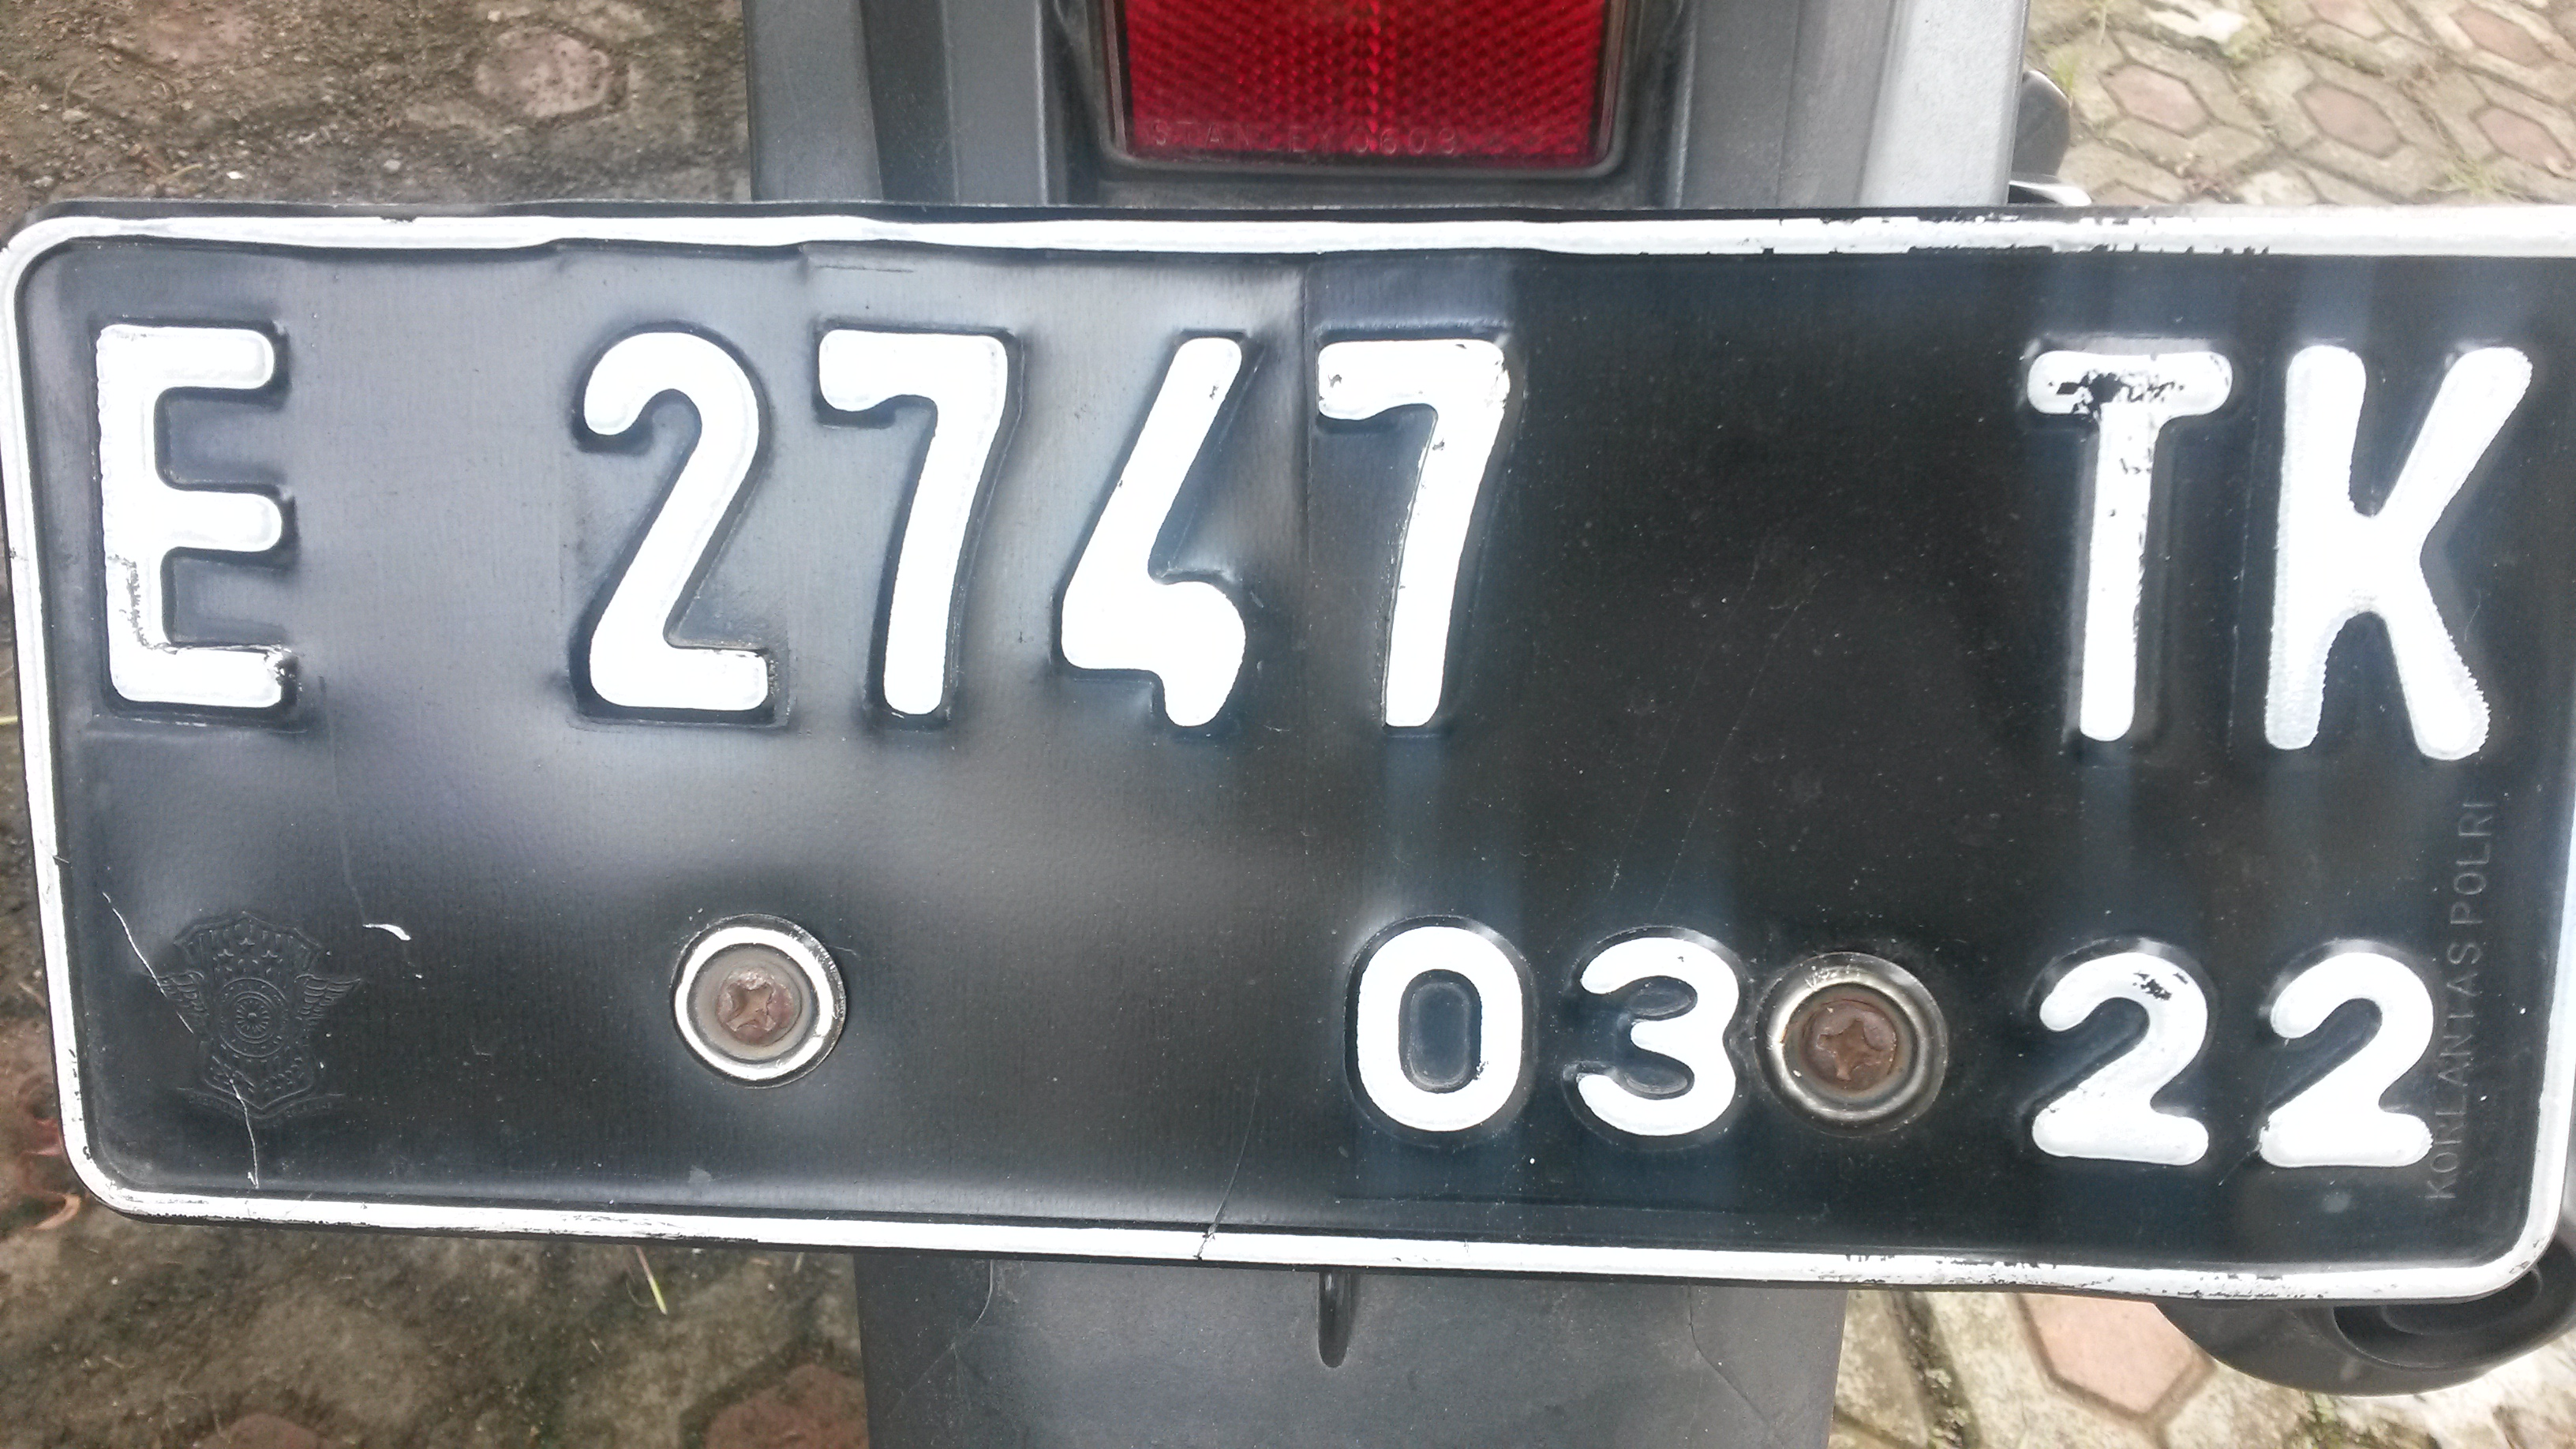plate: (1, 206, 2576, 1313)
